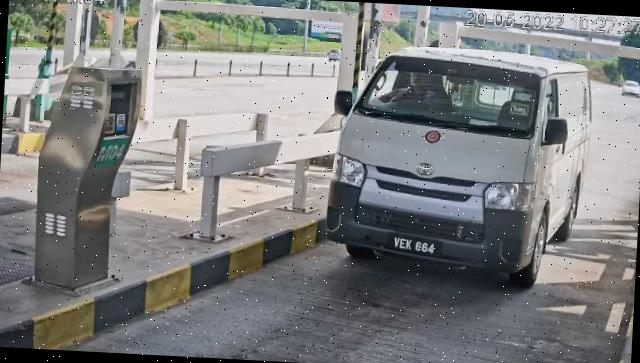License_Plate: (386, 231, 446, 262)
van: (325, 44, 596, 292)
